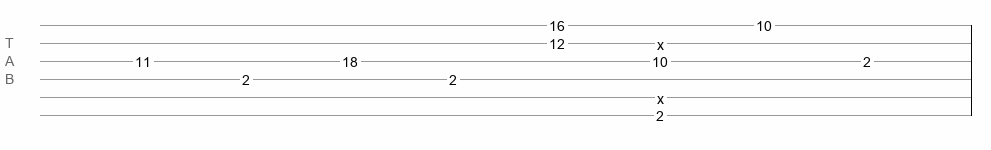10: (652, 54, 668, 64), (756, 18, 772, 28)
11: (135, 54, 151, 64)
12: (549, 36, 565, 46)
16: (549, 18, 565, 28)
18: (342, 54, 358, 64)
2: (242, 72, 250, 82), (449, 72, 457, 82), (656, 108, 664, 118), (863, 54, 871, 64)
x: (657, 37, 664, 45), (657, 91, 664, 99)
